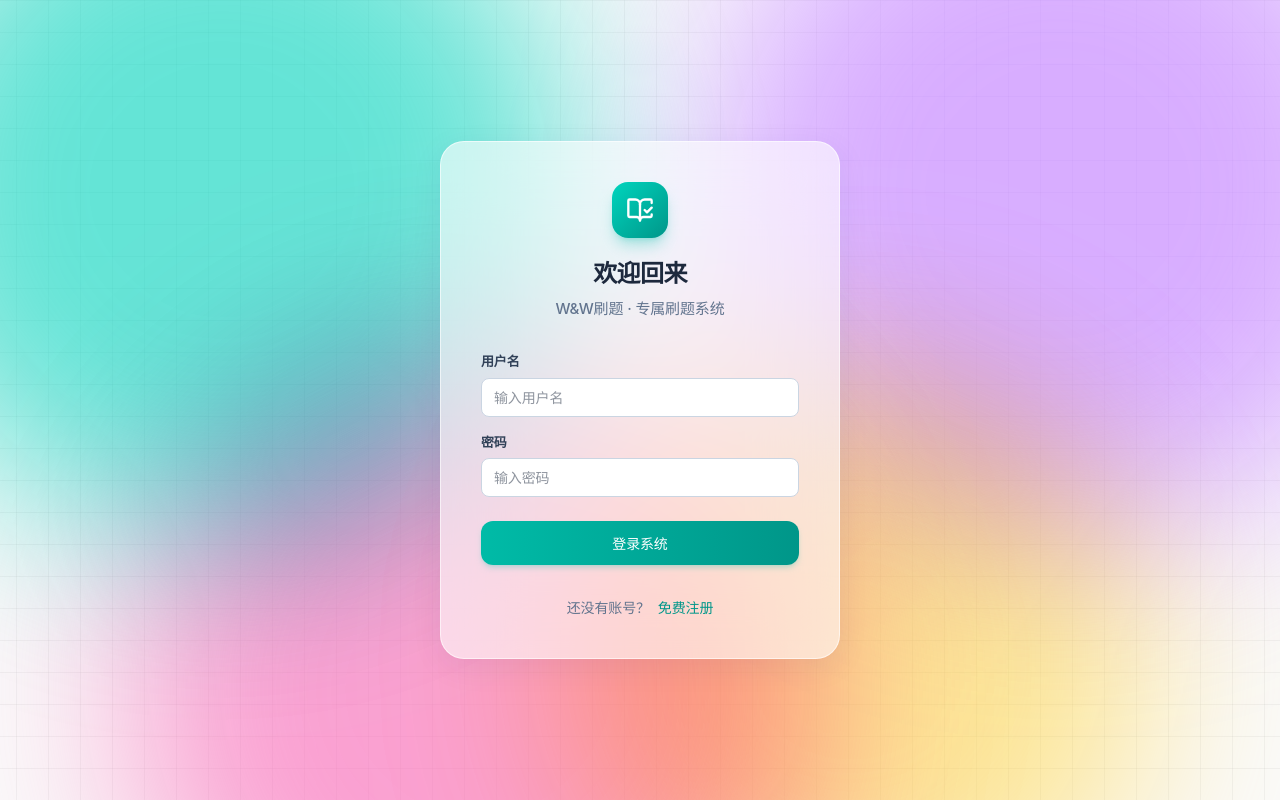
Test: bank flow › logs in and lists the user banks
The width and height of the screenshot is (1280, 800).
In the field labelled "用户名": coordinates (640, 397) [481,378,799,417], type "alice"
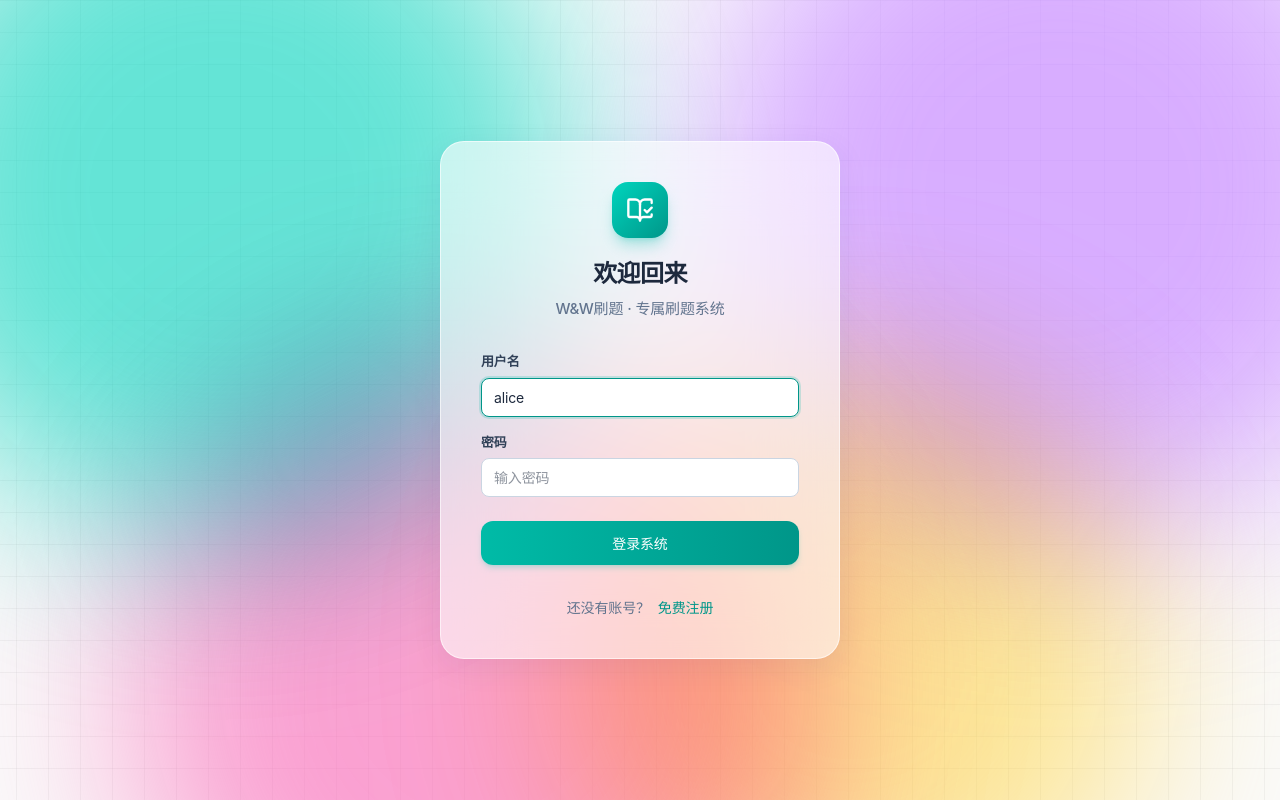
In the password field labelled "密码": coordinates (640, 478) [481,458,799,497], type "correct-password"
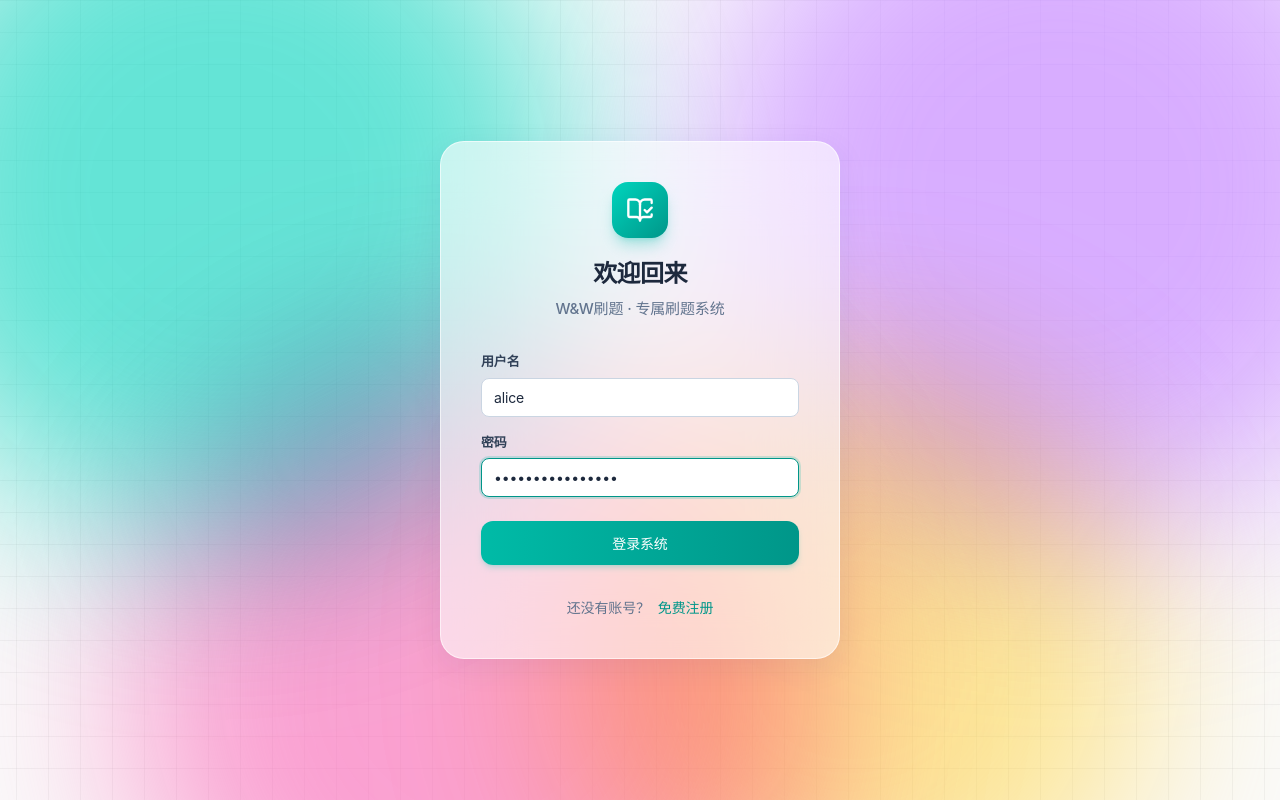
Click the button "登录系统": coordinates (640, 543) [481,521,799,565]
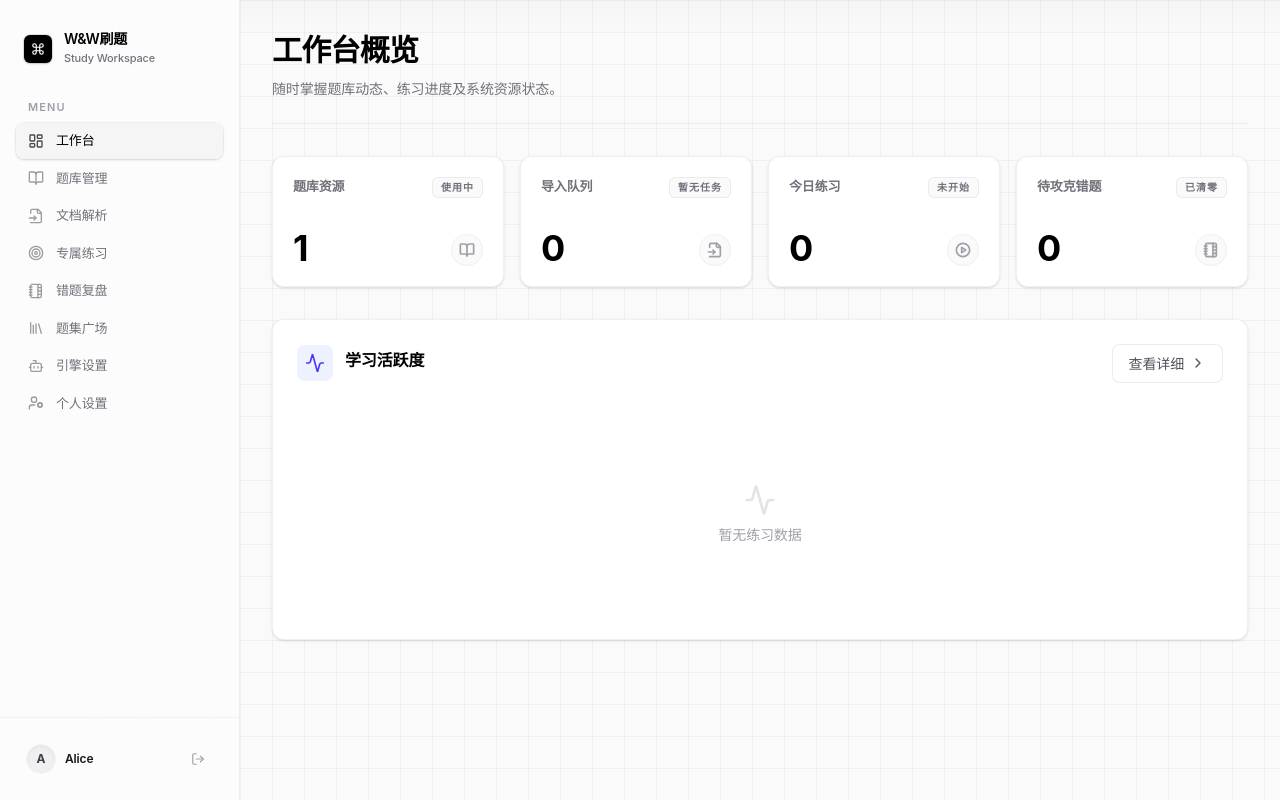
Now the heading "工作台概览" is shown, box [272,32,418,68]
Click the link "题库管理": coordinates (68, 178) [28,170,108,186]
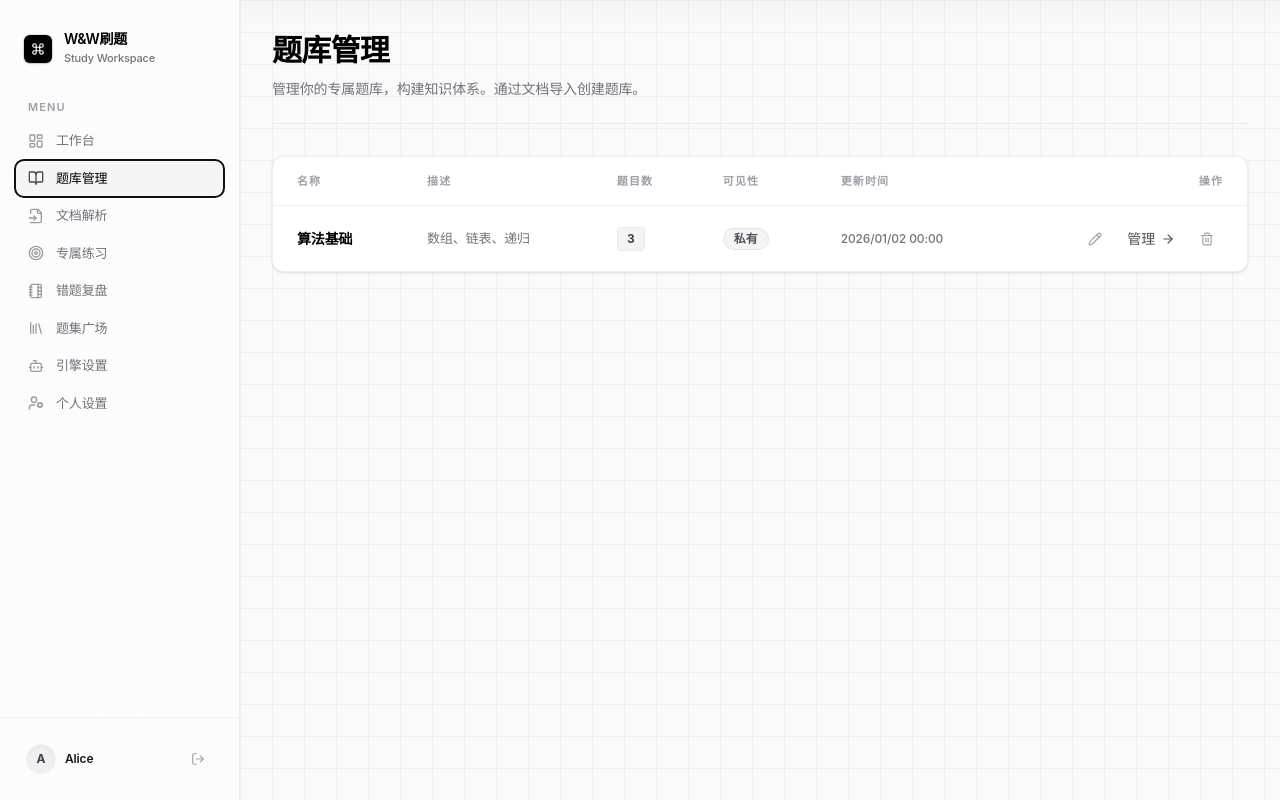
Now the text "算法基础" is shown, box [297,230,352,247]
Now the cell "数组、链表、递归" is shown, box [403,206,593,271]
